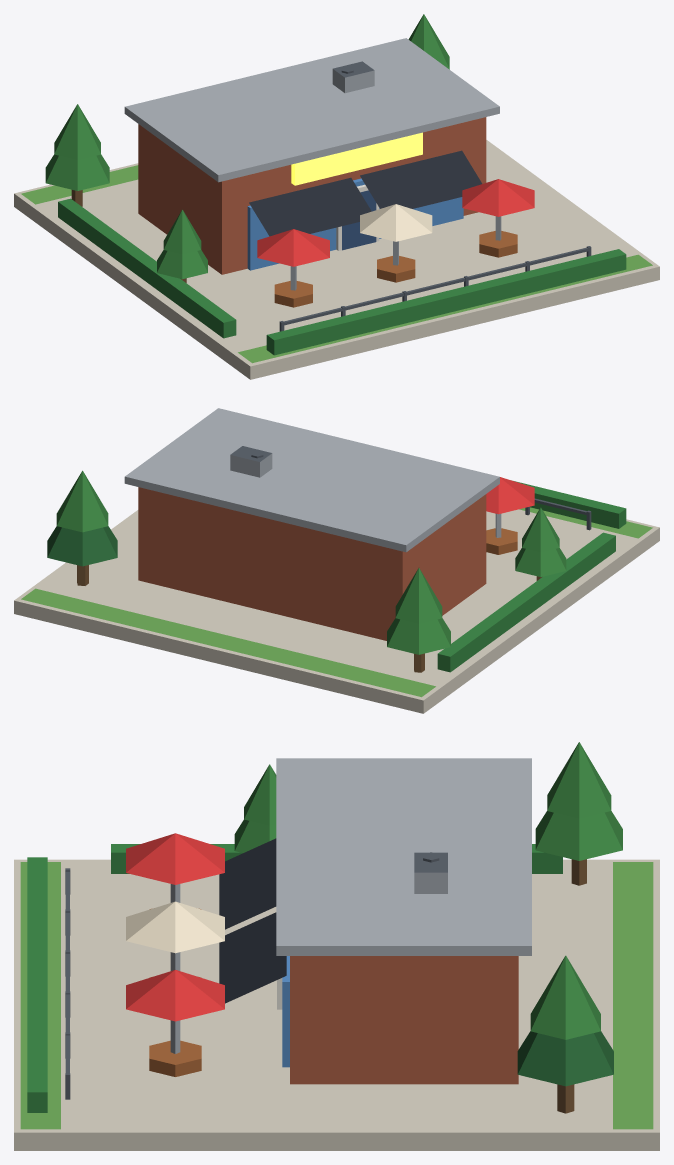
3 renders of one model, top to bottom at view 1: azimuth 30°, elevation 25°; view 2: azimuth 150°, elevation 25°; view 3: azimuth 270°, elevation 25°, orthographic. The views are drawn at different scales.
Visible parts, largest first — view 1: b12; view 2: b12; view 3: b12.
Boxes of the visible parts, <box> form: b12: <box>14,14,659,379</box>; b12: <box>14,408,659,713</box>; b12: <box>14,742,659,1150</box>.
Bounding box in the file's own units: 0.9625 × 0.309 × 0.96.
